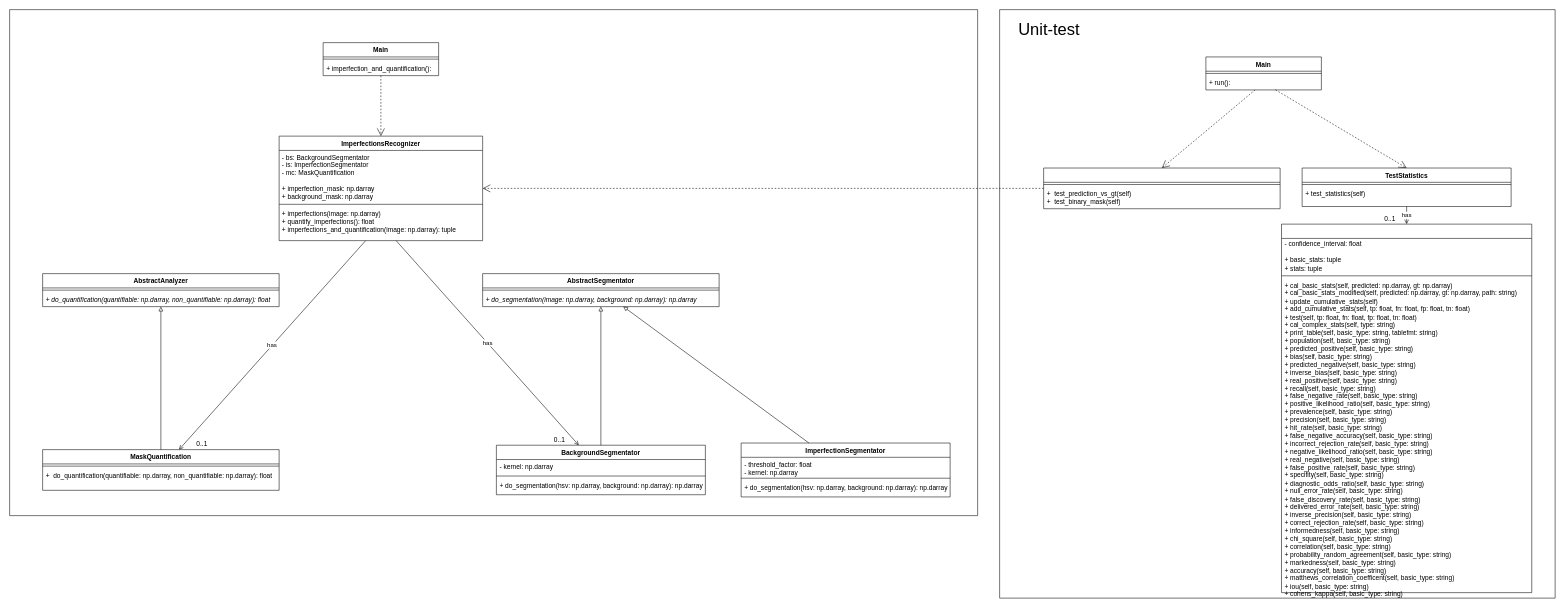
This 1565x608 diagram has some shape labels left out. The shapes that lost their labels are listed below. From the top down, each one's box as (x1, y1, x2, y2) in pixels, then its label:
(1043, 167, 1280, 209): TestImperfectionRecognizer
(9, 9, 978, 516): Application
(1281, 224, 1532, 593): Metrics
